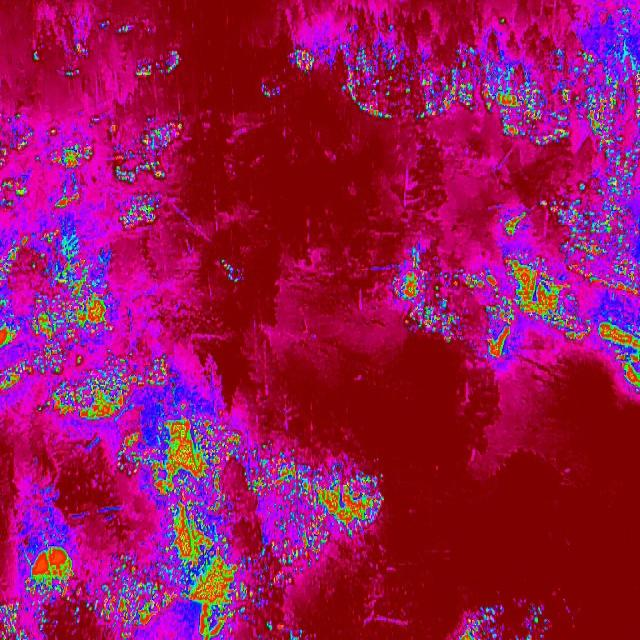fire: (334, 23, 484, 131), (240, 438, 388, 536), (550, 146, 640, 298), (30, 223, 118, 352), (120, 411, 242, 502), (44, 349, 184, 427), (0, 113, 94, 217), (110, 113, 186, 229), (506, 253, 594, 349), (480, 60, 572, 150), (571, 44, 640, 144), (100, 556, 181, 634), (182, 554, 248, 638), (162, 502, 230, 568), (596, 316, 640, 402), (262, 533, 334, 585), (22, 544, 82, 604), (402, 297, 464, 344), (432, 266, 504, 302), (483, 299, 518, 361), (114, 426, 154, 478), (1, 235, 28, 309), (134, 47, 183, 82), (454, 607, 502, 640), (393, 258, 423, 306), (0, 358, 35, 399), (0, 313, 25, 353), (501, 204, 528, 241), (286, 46, 316, 76), (92, 16, 136, 36), (0, 601, 20, 640), (216, 256, 236, 282), (262, 82, 282, 100), (72, 41, 91, 57), (66, 64, 82, 78), (32, 47, 41, 65)
